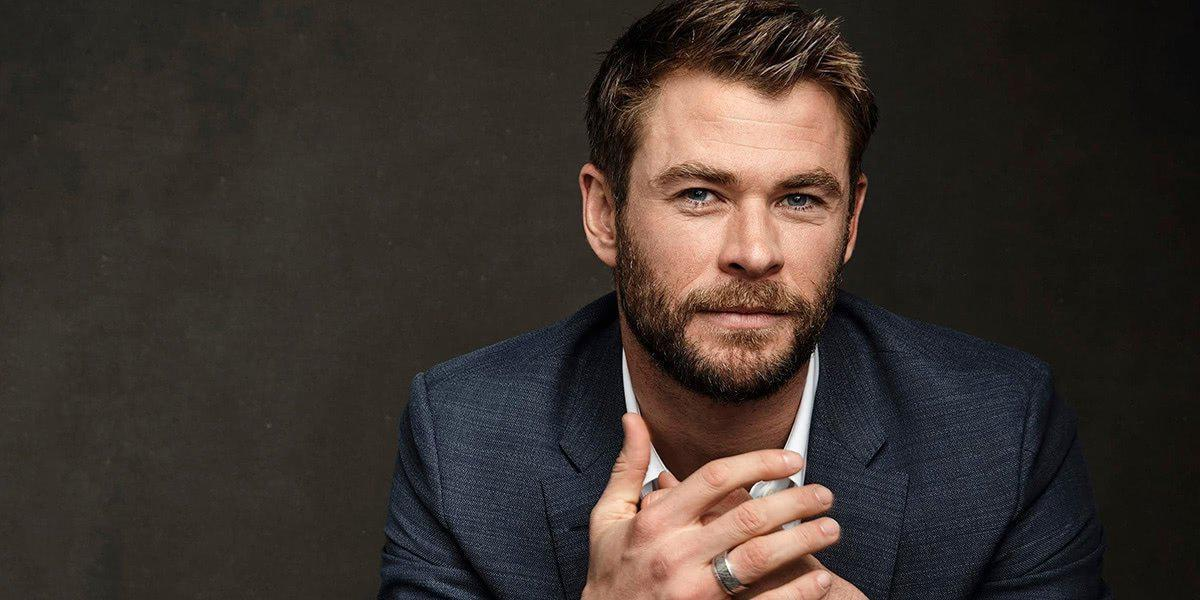Sober: (618, 75, 841, 385)
